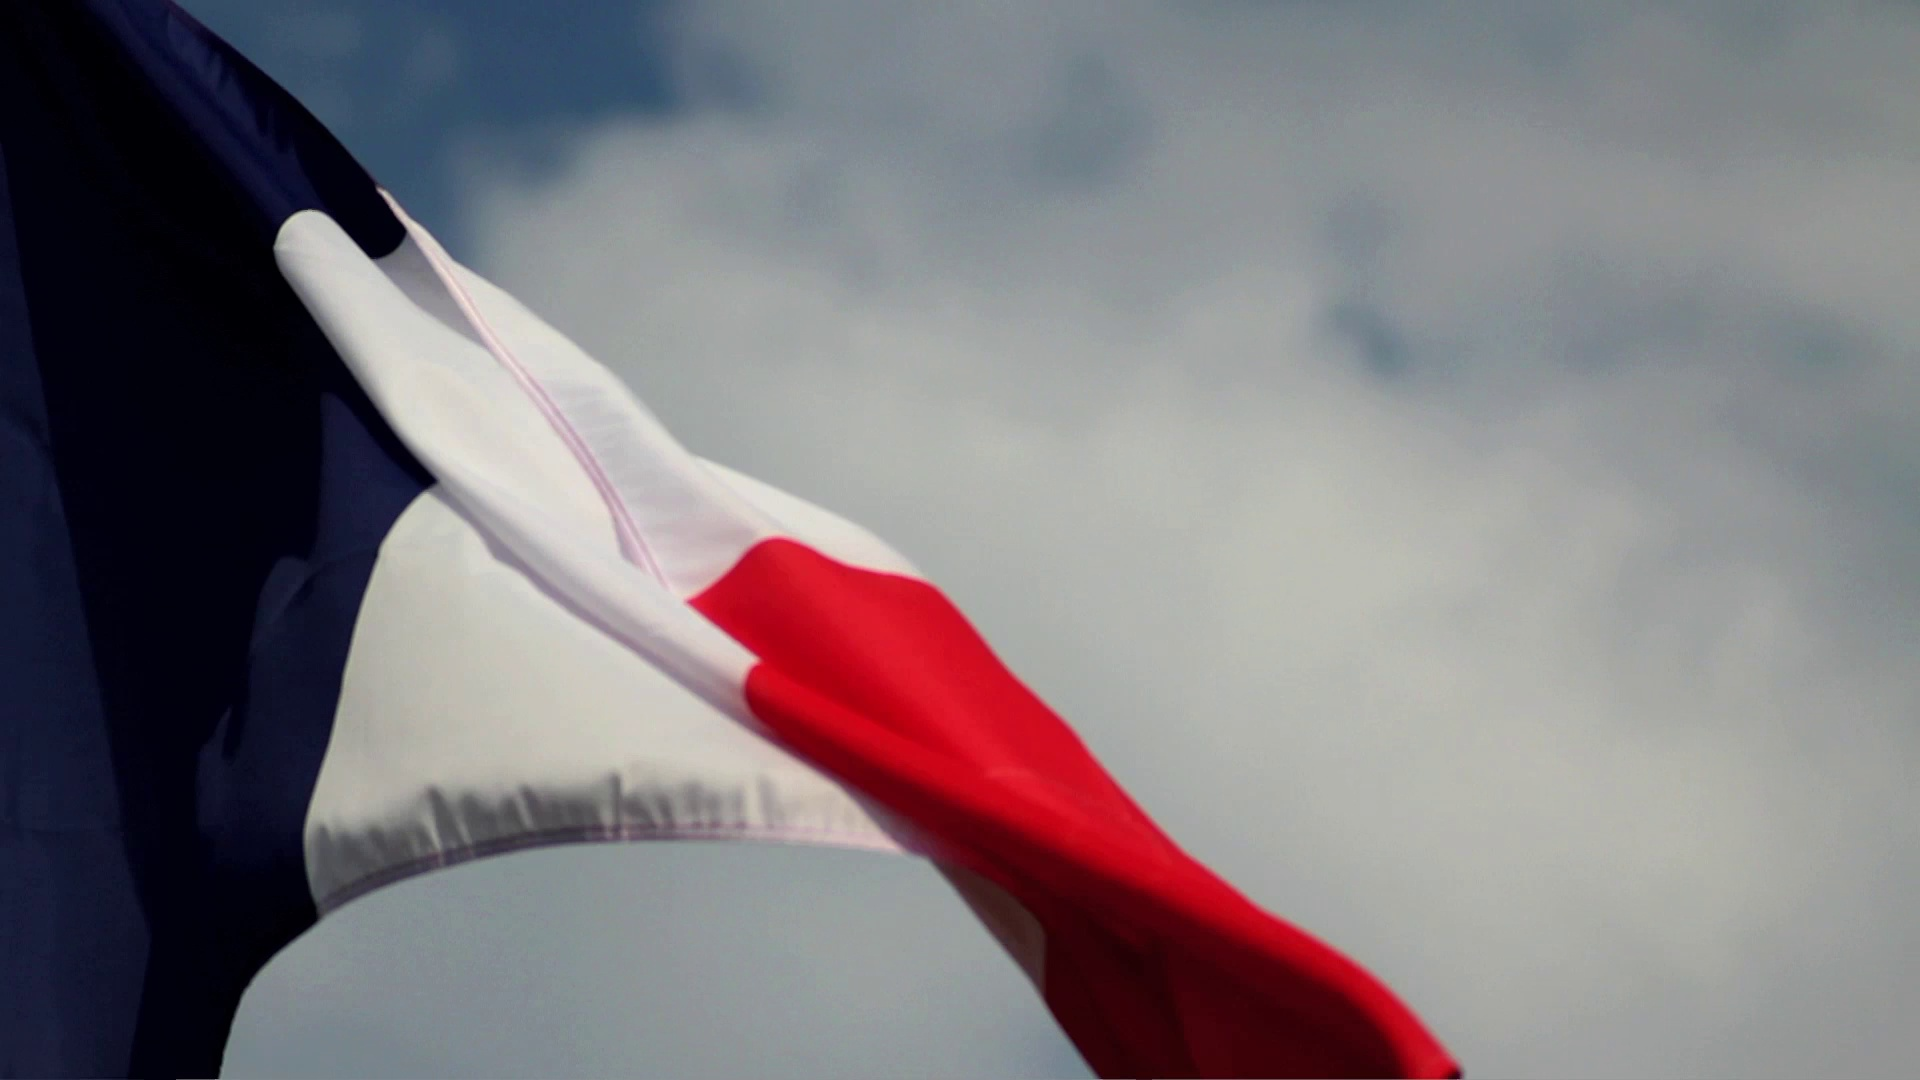French Flag: (1, 1, 1472, 1080)
